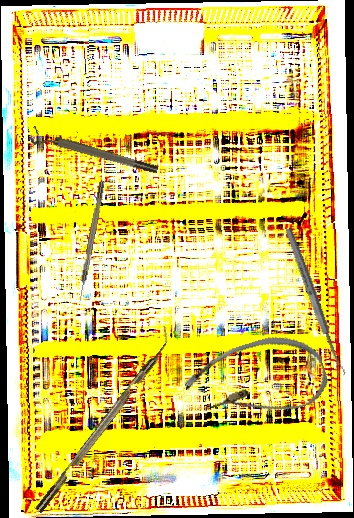Cannula: (178, 324, 334, 438)
Chopper: (26, 325, 179, 514)
Fixation Ring: (28, 125, 160, 182)
Hook Surgical: (76, 180, 106, 303)
Surgical Spoon: (283, 227, 347, 378)
